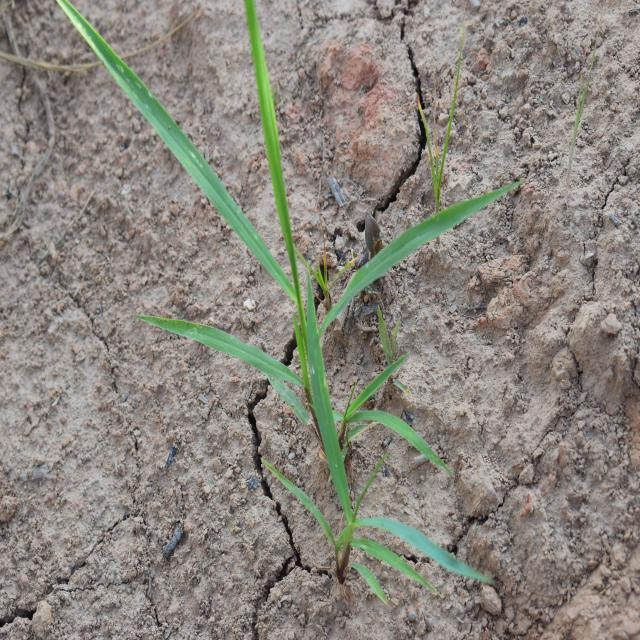green_foxtail: (121, 40, 403, 441), (292, 322, 456, 600)
